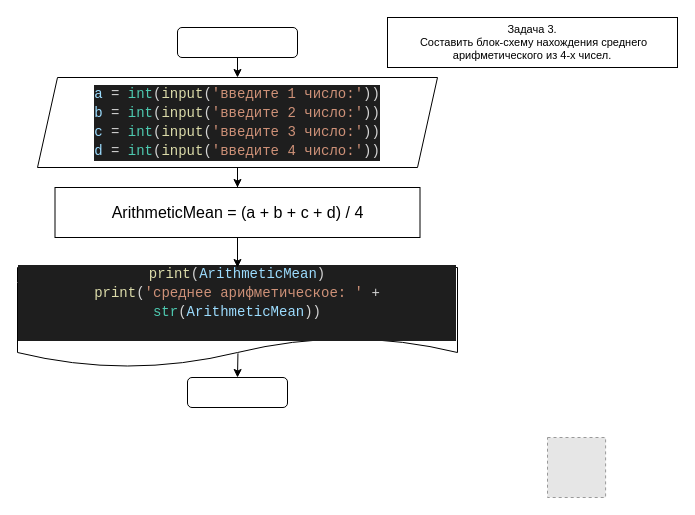
Some shapes in this 695 by 515 pixel diagram are drawn without their labels. Grey dashed boxes stand in for pictures. Here are the shapes that lost their labels. From the top down, the centre of each, then its label:
At [237,42]: "Начало".
At [237,392]: "конец".
